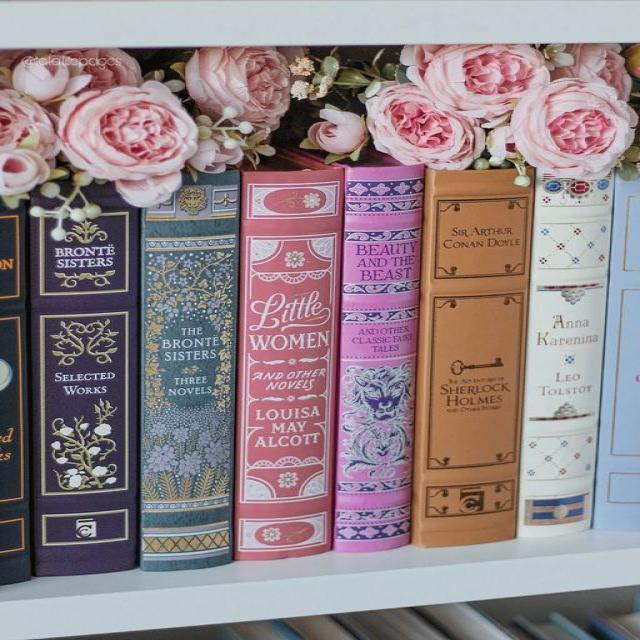book: (232, 168, 346, 559), (418, 168, 535, 547), (28, 201, 141, 578), (142, 171, 240, 568), (514, 168, 616, 537), (336, 165, 424, 552), (1, 205, 30, 586)
flowers: (0, 49, 640, 168)
